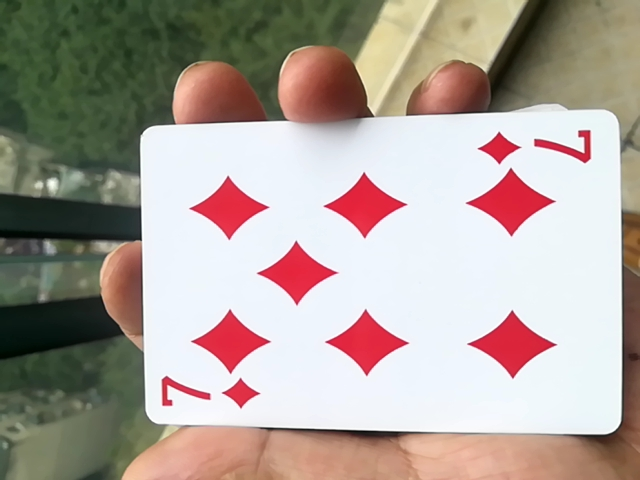fk 7: (121, 117, 616, 450)
